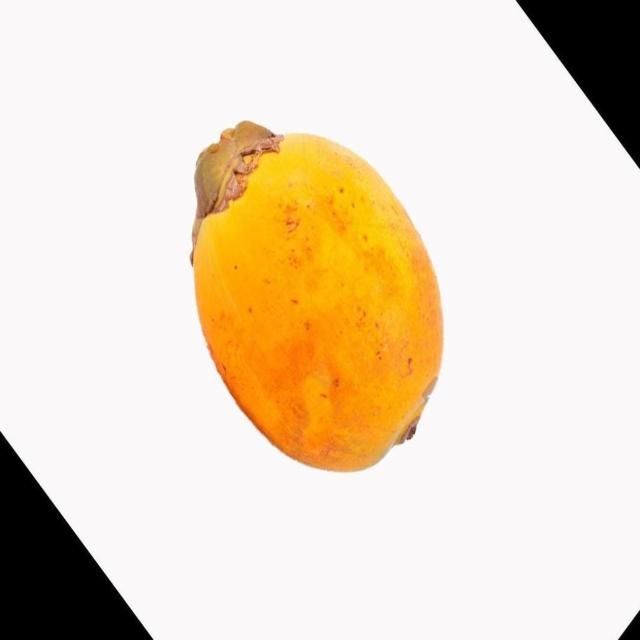good: (190, 121, 446, 475)
